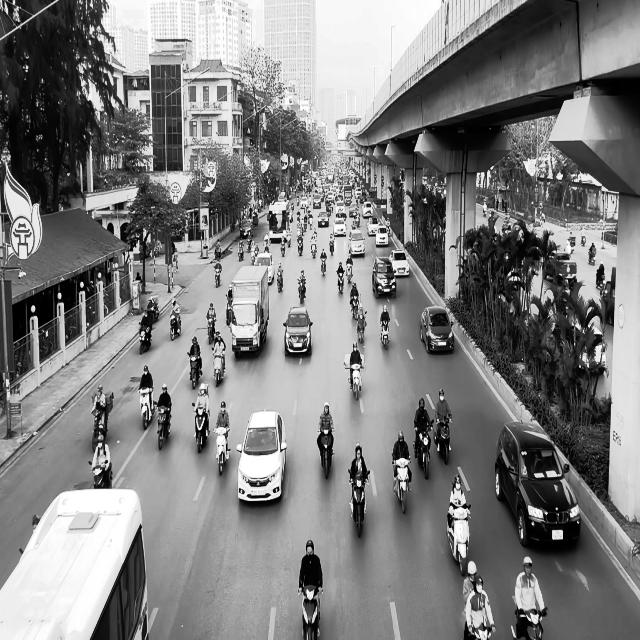bus: (0, 486, 149, 640)
car: (494, 420, 581, 547), (236, 408, 287, 504), (420, 304, 454, 354), (282, 306, 312, 356), (372, 256, 396, 298), (389, 249, 409, 277), (348, 228, 365, 256)
motorbike: (446, 503, 471, 575), (511, 595, 547, 639), (348, 468, 370, 538), (298, 584, 321, 640), (414, 420, 433, 480), (392, 456, 411, 514), (344, 353, 365, 400), (434, 414, 452, 465), (192, 403, 210, 453), (317, 428, 334, 479), (213, 426, 230, 475), (138, 386, 155, 430), (156, 404, 171, 449), (89, 459, 112, 488), (187, 352, 201, 389), (212, 348, 225, 387), (138, 321, 152, 354), (356, 310, 367, 342), (170, 314, 181, 340), (380, 321, 390, 349), (206, 316, 216, 344), (297, 278, 306, 304), (350, 294, 359, 319), (225, 294, 232, 326), (336, 270, 344, 293), (214, 264, 221, 287), (276, 272, 283, 292), (588, 248, 596, 264), (329, 235, 335, 254), (321, 256, 326, 276)
truck: (230, 264, 269, 358)
